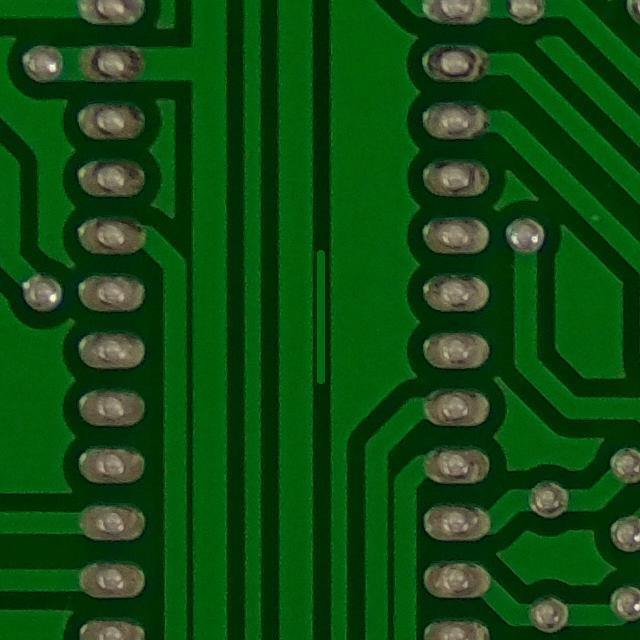spurious_copper: (295, 239, 346, 402)
